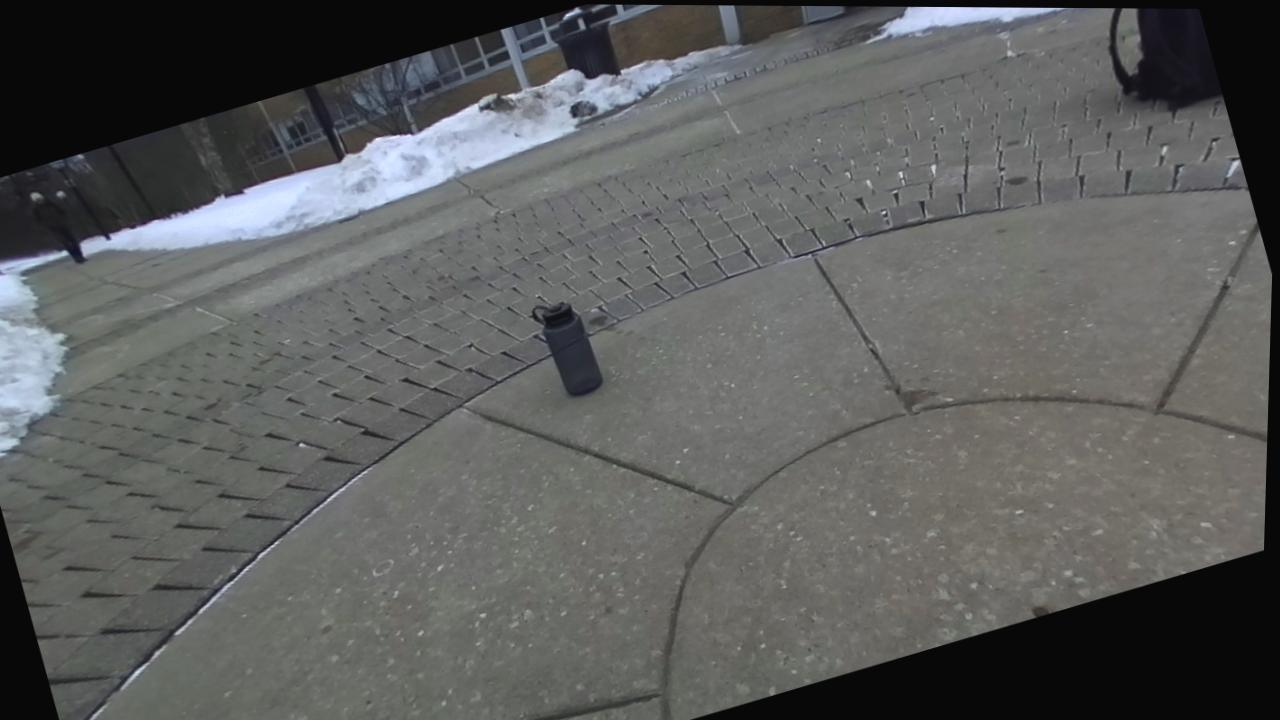bottle: (532, 301, 602, 395)
